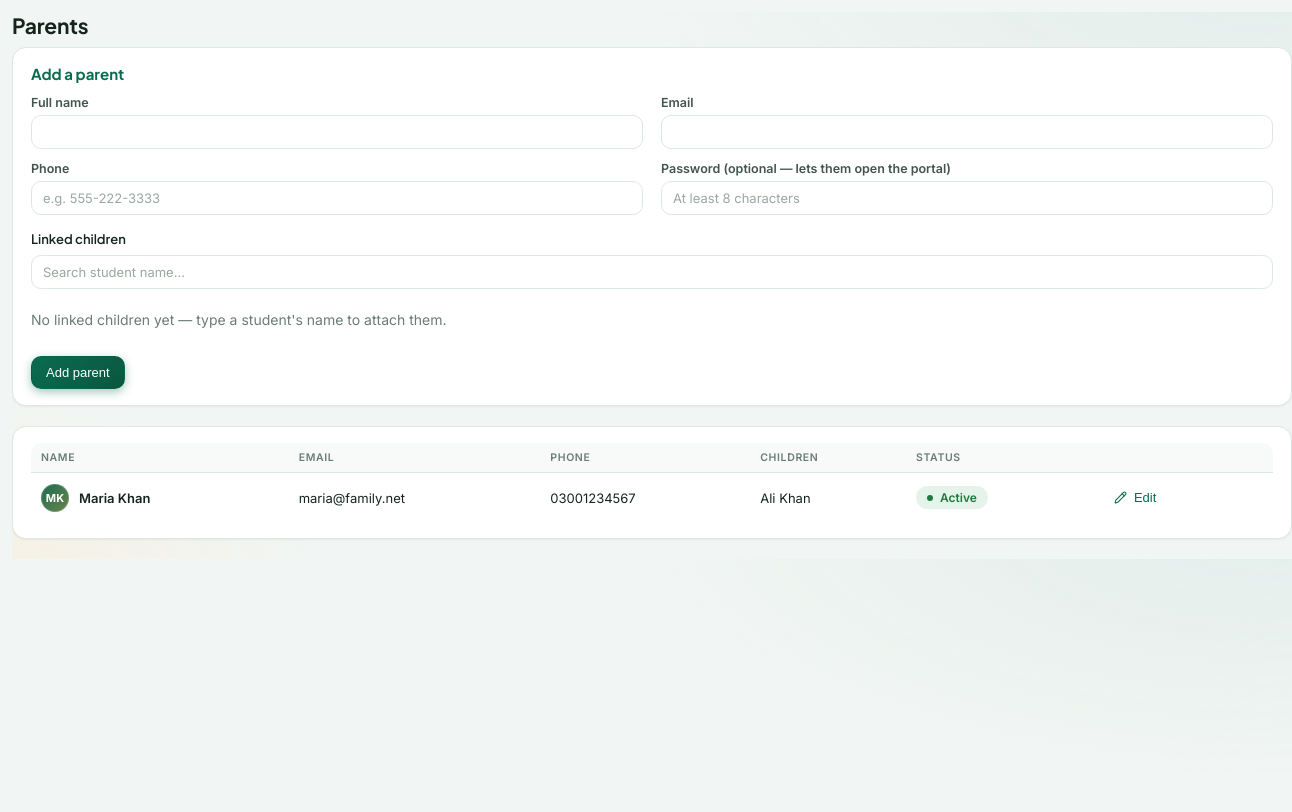
Parents page › adds a parent via POST without a password
The width and height of the screenshot is (1292, 812).
Type "Nadia Ali" into the field labelled "Full name". click: (337, 132)
box: [31, 115, 643, 149]
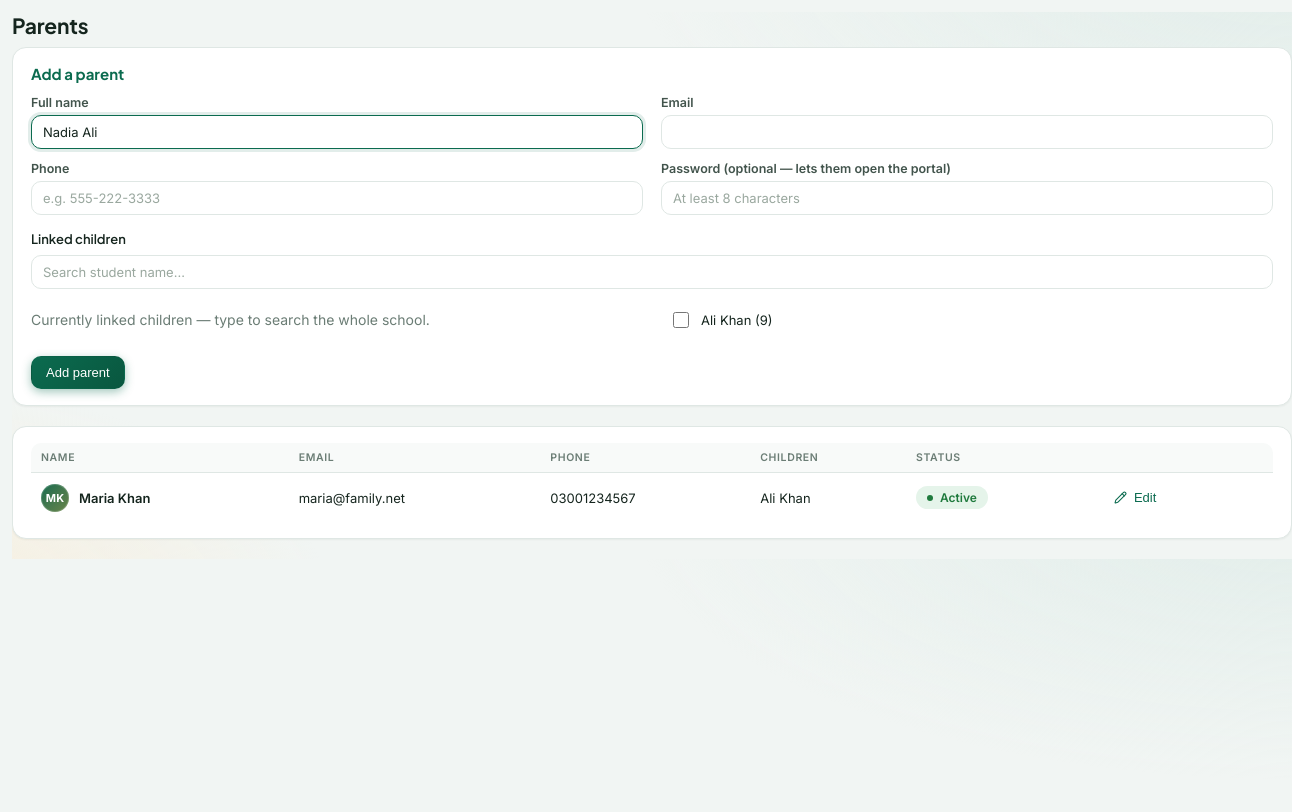
Type "nadia@family.net" into the field labelled "Email". click: (967, 132)
box: [661, 115, 1273, 149]
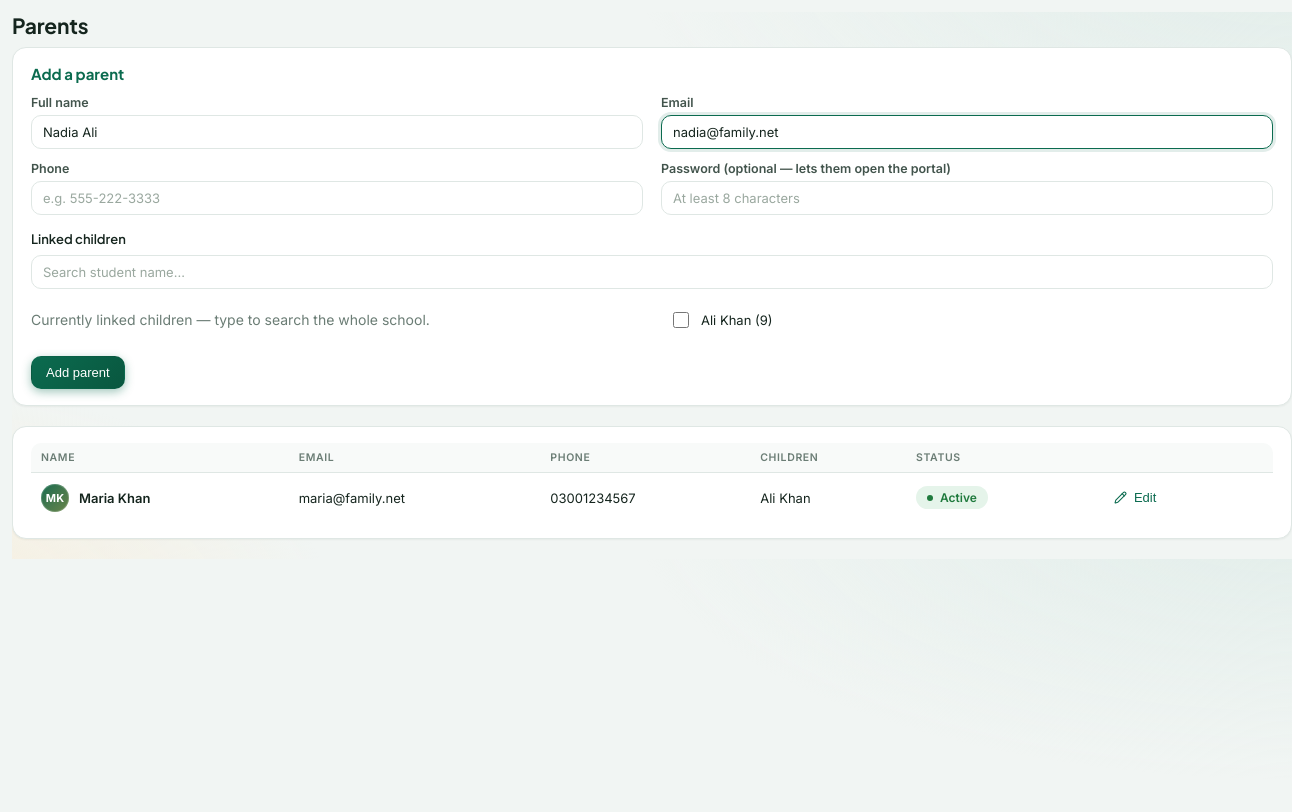
Type "01000000000" into the field labelled "Phone". click: (337, 198)
box: [31, 181, 643, 215]
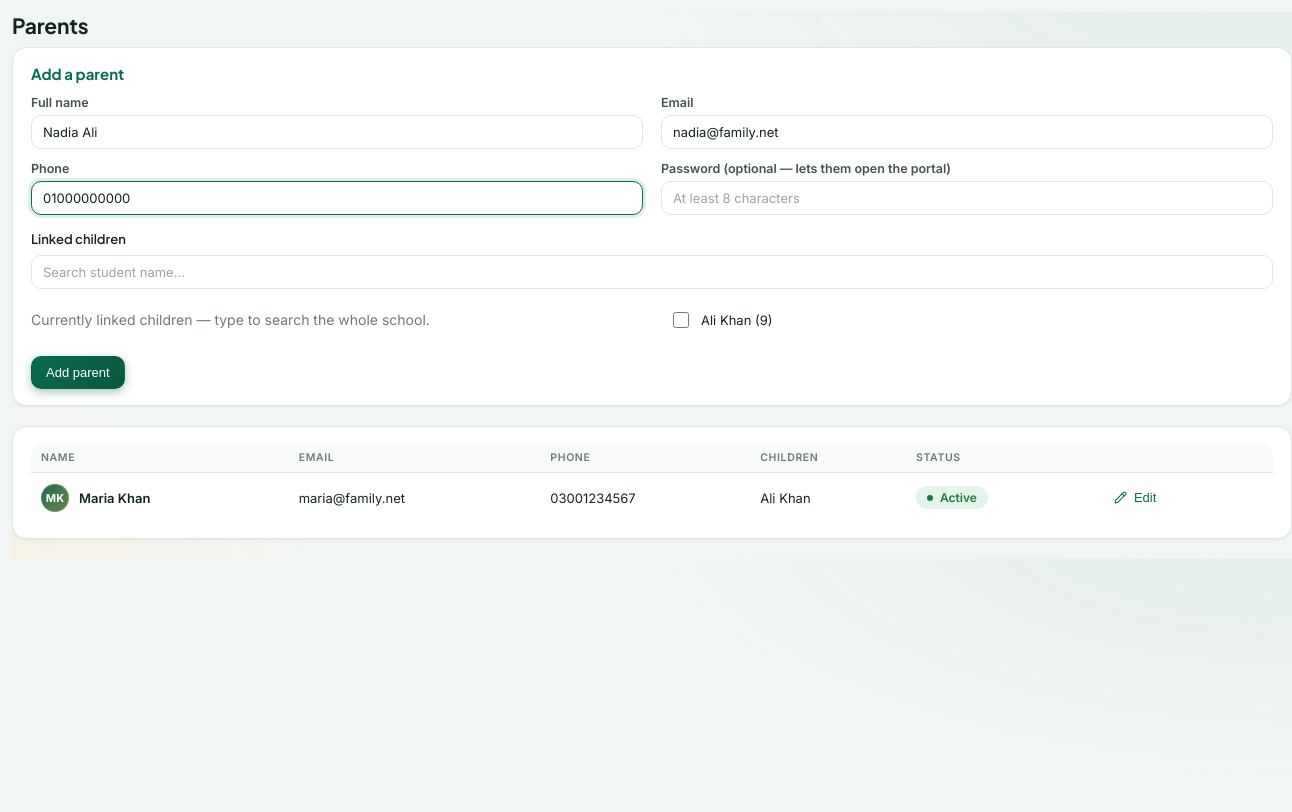
Click the button "Add parent". click: (78, 372)
box: [31, 356, 125, 389]
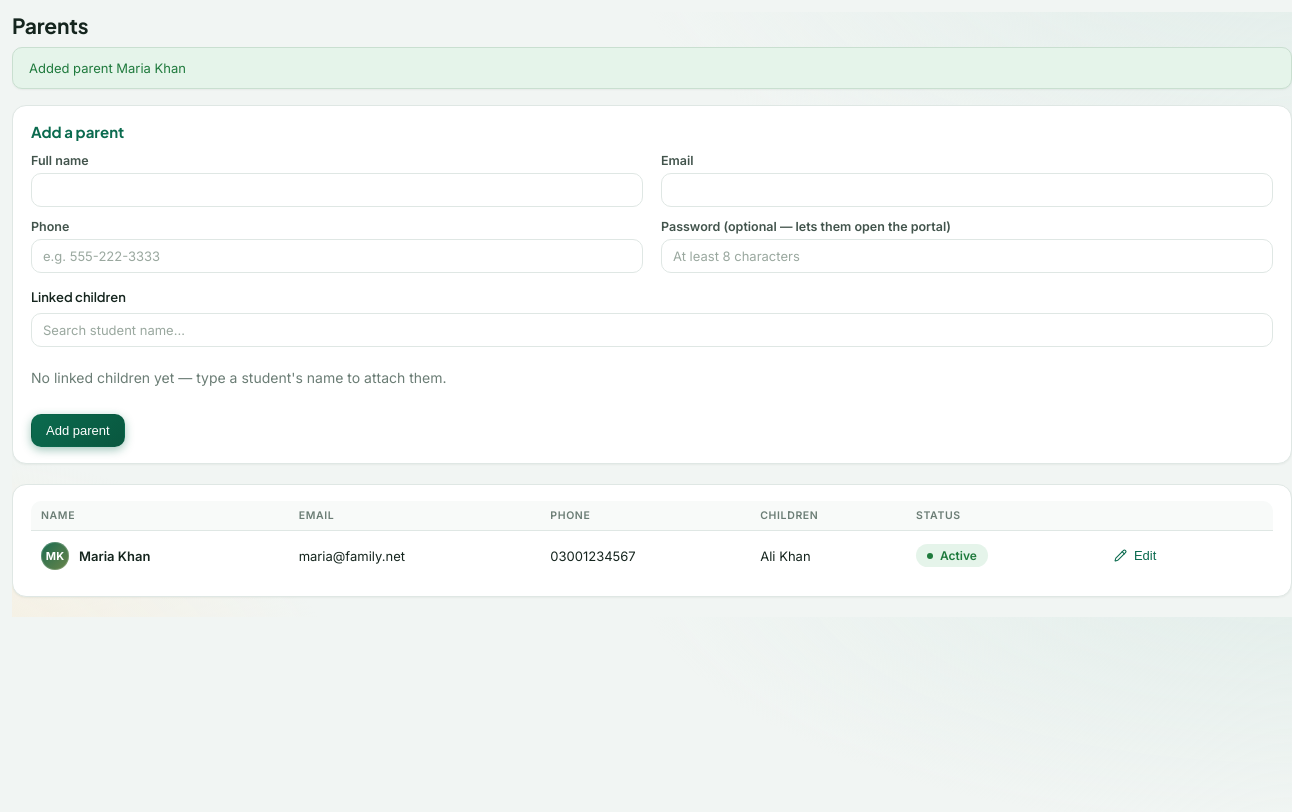
Check: the text "Added parent Maria Khan" is shown, box [12, 47, 1291, 89]
